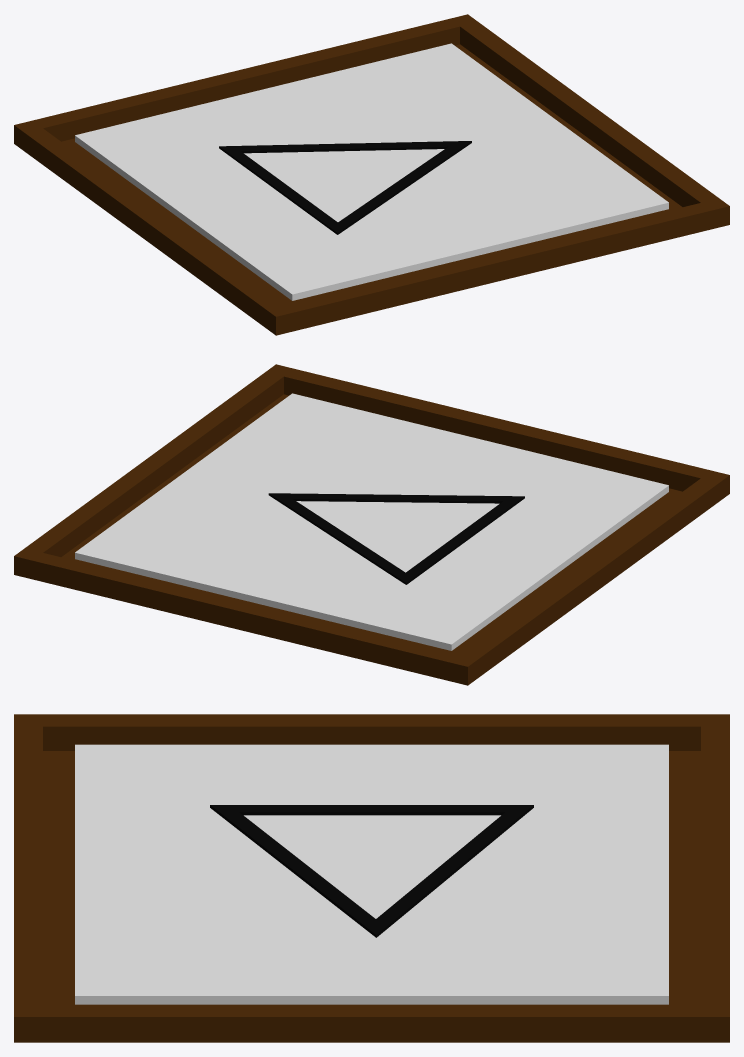
The model's file is church_1trokut.fbx.
3 renders of one model, top to bottom at view 1: azimuth 30°, elevation 25°; view 2: azimuth 150°, elevation 25°; view 3: azimuth 270°, elevation 25°, orthographic. The views are drawn at different scales.
Parts seen in each view (by area): view 1: Plane.002, Plane, Plane.001; view 2: Plane.002, Plane, Plane.001; view 3: Plane.002, Plane, Plane.001.
Part boxes in pixels (x1,y1,x2,y2): Plane.002: (75, 43, 668, 300); Plane: (14, 14, 729, 335); Plane.001: (219, 141, 471, 234); Plane.002: (75, 393, 668, 650); Plane: (14, 364, 729, 685); Plane.001: (268, 493, 524, 584); Plane.002: (75, 744, 668, 1004); Plane: (14, 714, 729, 1042); Plane.001: (210, 805, 533, 937).
Size of the model in its own units: 200 by 7.91 by 200.
